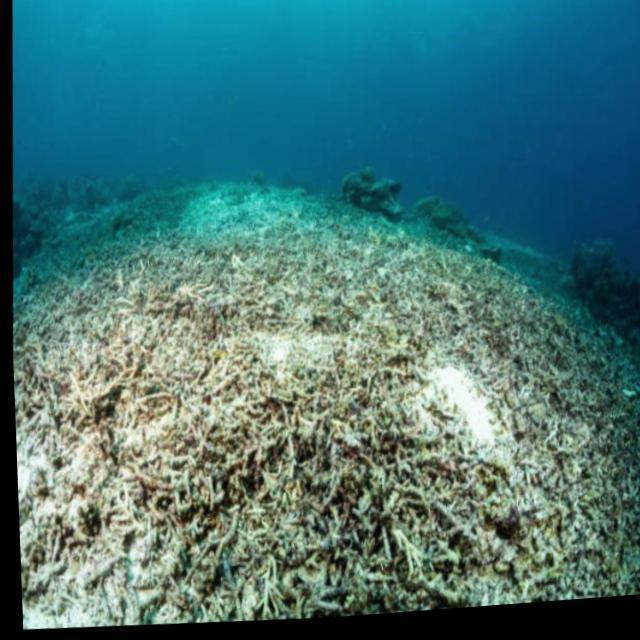Dead Coral: (57, 222, 554, 542)
